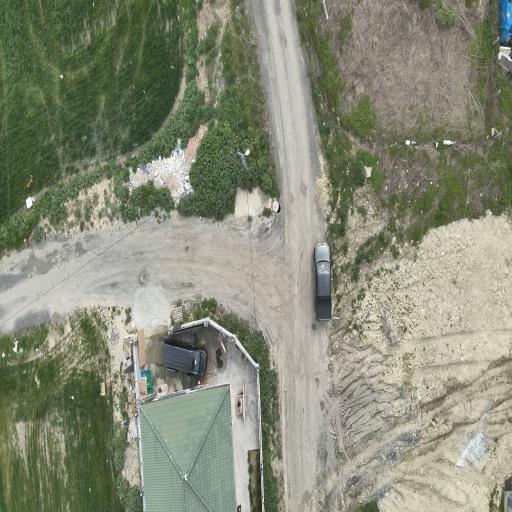car: (160, 339, 207, 376), (314, 243, 331, 320)
